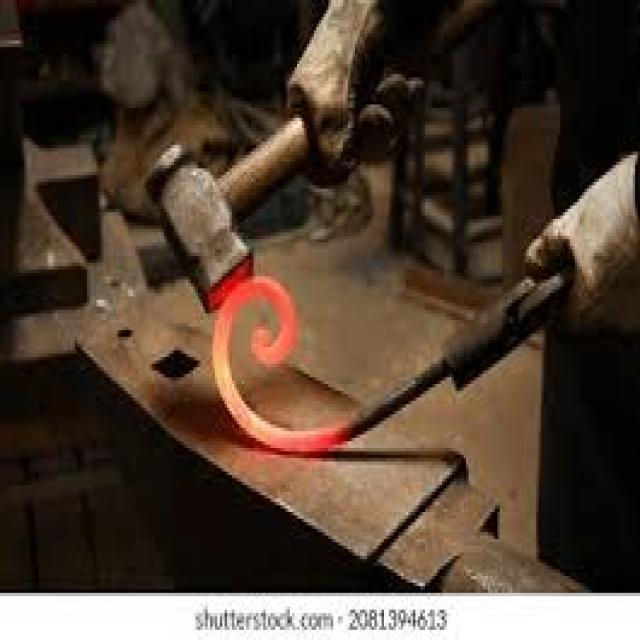hammer: (142, 99, 322, 322)
